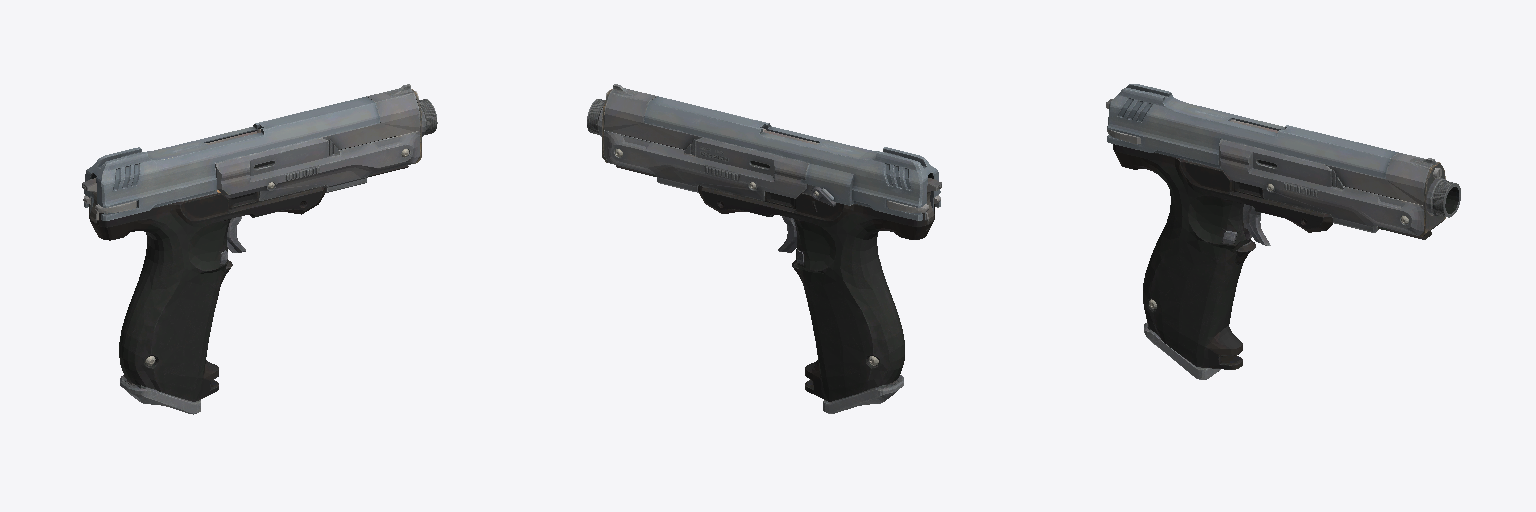
The picture shows the model from 3 angles: view 1: azimuth 30°, elevation 25°; view 2: azimuth 150°, elevation 25°; view 3: azimuth 330°, elevation 25°; orthographic projection.
Parts seen in each view (by area): view 1: magnum.003; view 2: magnum.003; view 3: magnum.003.
Part boxes in pixels (left/top/right/bottom): magnum.003: left=82, top=84, right=437, bottom=414; magnum.003: left=587, top=84, right=941, bottom=413; magnum.003: left=1106, top=84, right=1460, bottom=379.
Bounding box in the file's own units: 0.3064 × 0.227 × 0.0416.
1 materials, 1 textured.